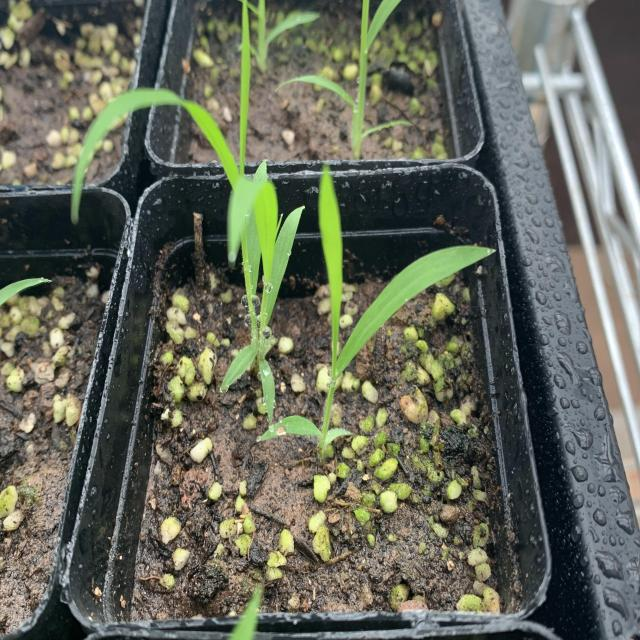crabgrass: (74, 68, 314, 376), (308, 175, 486, 487)
